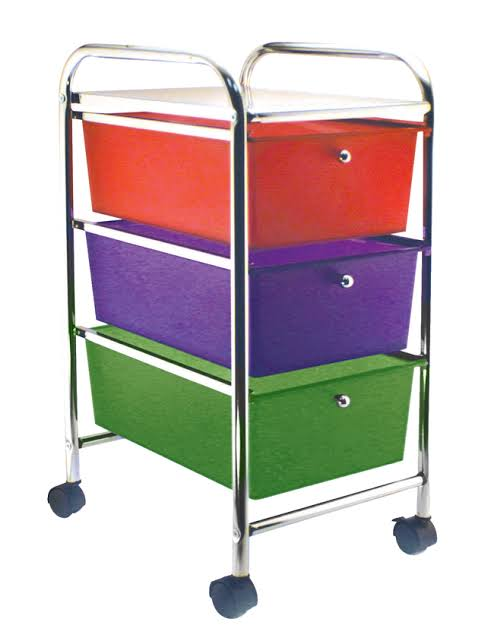Carts: (43, 41, 444, 619)
